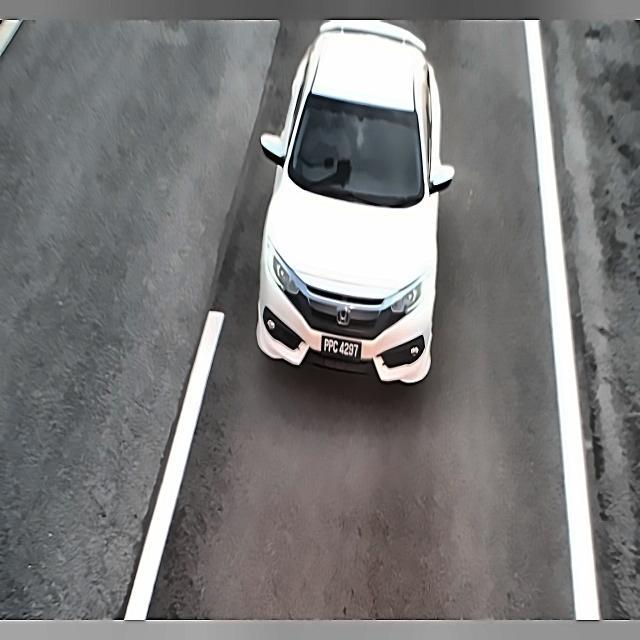car: (316, 331, 367, 369)
